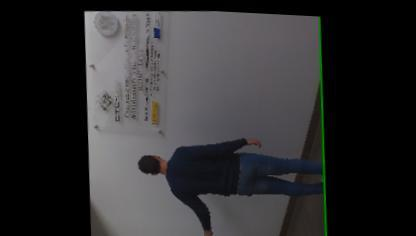knife: (197, 227, 214, 233)
